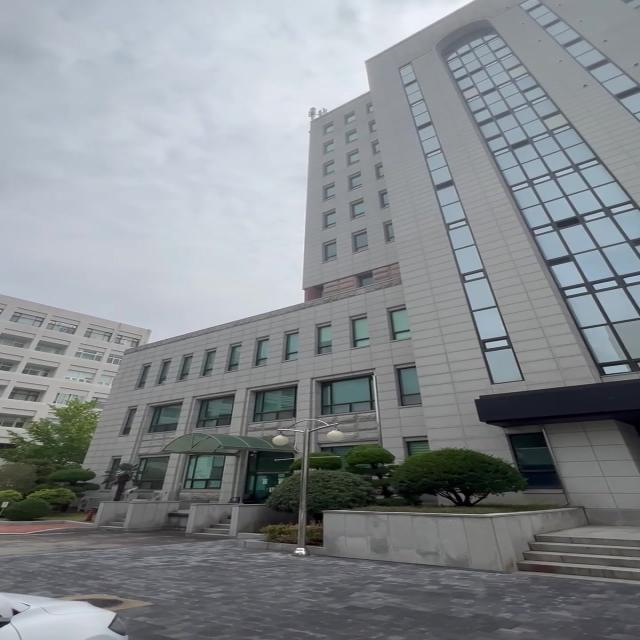building: (188, 28, 640, 425)
